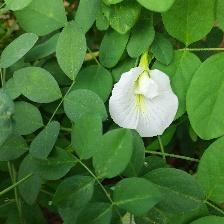shankupushpam: (108, 66, 182, 141)
